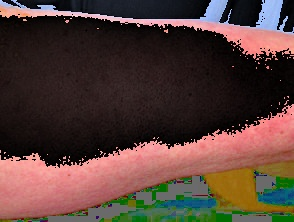SJS-TEN: (0, 4, 294, 222)
